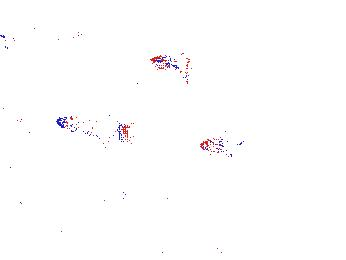red belly glassfish: (199, 137, 249, 157)
redtail glassfish: (1, 22, 88, 59), (55, 112, 130, 142), (149, 51, 194, 73), (108, 75, 149, 95)
